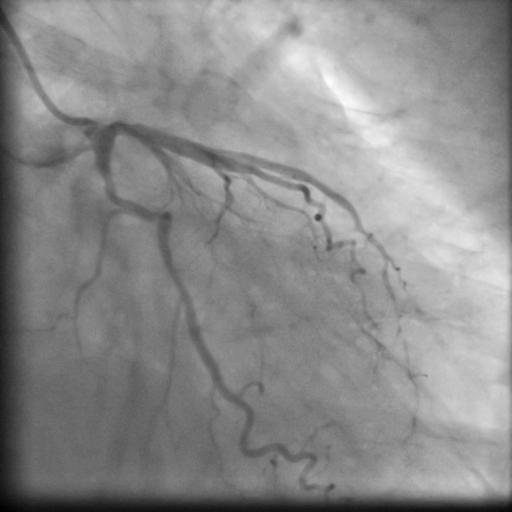Stenosis: (125, 195, 162, 219)
